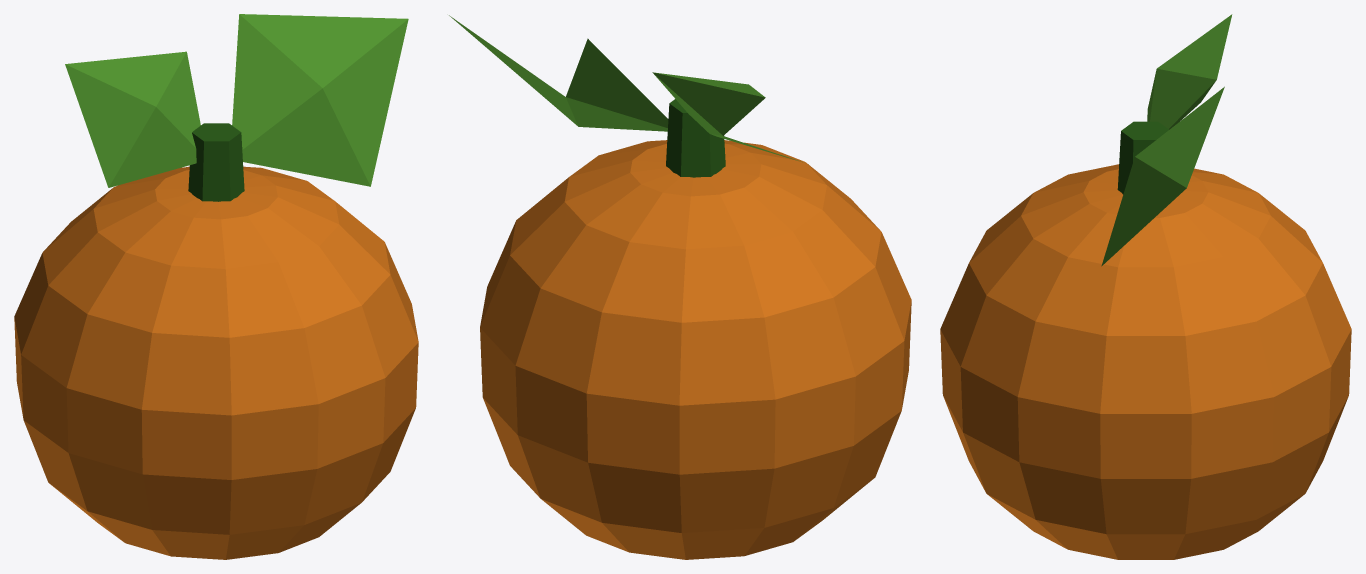
The model's file is orange-ea3791.glb.
The picture shows the model from 3 angles, left to right: view 1: azimuth 30°, elevation 25°; view 2: azimuth 150°, elevation 25°; view 3: azimuth 270°, elevation 25°; orthographic projection. The views are drawn at different scales.
Bounding box in the file's own units: 0.0859 × 0.1019 × 0.079.
